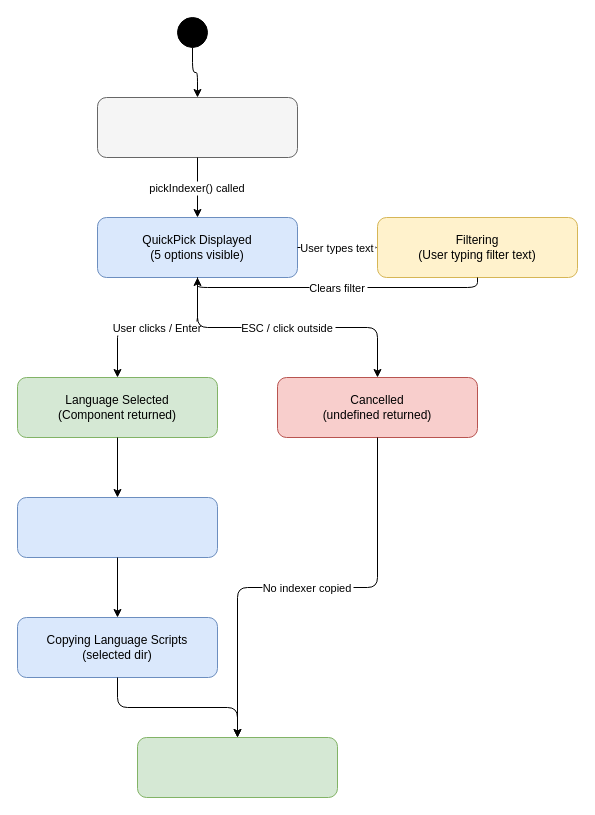
The diagram is 595 pixels wide and 815 high, and some of its shapes have lost their labels. The centre of each missing label's shape, as x and y in pixels:
Copying Base Config (INDEXER_BASE): point (117, 527)
Done (injection complete): point (237, 767)
Idle (Injection in progress): point (197, 127)
